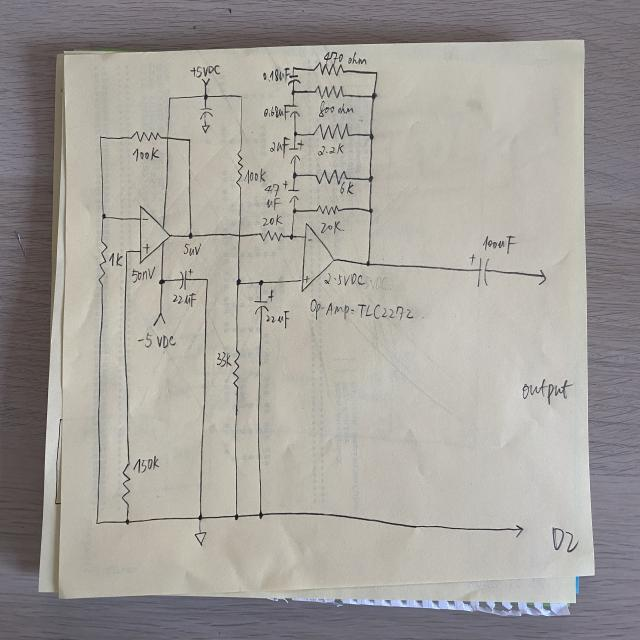capacitor: (468, 250, 490, 288), (252, 290, 274, 316), (287, 139, 304, 164), (282, 180, 300, 203), (177, 268, 191, 290), (286, 104, 300, 118), (198, 105, 213, 118), (287, 74, 301, 86)
crossover: (237, 232, 242, 239), (165, 134, 170, 140)
ground: (193, 530, 208, 548), (199, 122, 210, 134)
junction: (201, 92, 211, 101), (124, 516, 132, 527), (158, 276, 166, 286), (370, 91, 378, 101), (196, 512, 204, 522), (366, 130, 374, 140), (364, 259, 372, 268), (100, 212, 108, 221), (291, 170, 298, 180), (94, 517, 101, 527), (233, 512, 240, 522), (234, 278, 242, 286), (257, 511, 264, 520), (288, 232, 295, 241), (187, 231, 194, 240), (291, 130, 298, 138), (258, 278, 264, 287), (368, 206, 374, 215), (368, 174, 374, 183), (167, 94, 173, 102), (124, 248, 130, 256), (238, 93, 244, 101), (204, 276, 210, 283), (291, 207, 297, 214), (290, 88, 296, 95), (98, 133, 103, 141), (187, 136, 192, 144), (374, 70, 379, 77), (291, 64, 296, 70)
resistor: (313, 121, 350, 141), (313, 167, 349, 187), (120, 460, 132, 508), (96, 239, 108, 287), (313, 61, 346, 78), (314, 83, 346, 100), (231, 349, 242, 391), (131, 129, 161, 144), (259, 229, 284, 243), (236, 150, 244, 188), (316, 204, 339, 216)
terminal: (152, 311, 167, 328), (513, 522, 525, 540), (538, 269, 548, 285), (198, 76, 212, 86)
text: (308, 299, 417, 322), (521, 376, 573, 406), (480, 233, 516, 255), (136, 332, 176, 350), (323, 50, 367, 66), (318, 100, 355, 118), (261, 65, 292, 85), (132, 454, 160, 475), (324, 272, 365, 286), (315, 142, 346, 160), (268, 136, 290, 159), (262, 103, 290, 120), (264, 311, 290, 329), (131, 146, 159, 162), (130, 266, 156, 283), (190, 64, 221, 77), (244, 167, 267, 184), (171, 292, 197, 307), (319, 220, 343, 235), (107, 250, 124, 268), (182, 242, 202, 257), (216, 351, 232, 368), (265, 197, 284, 211), (262, 214, 282, 226), (264, 183, 282, 196), (339, 182, 354, 196), (142, 243, 151, 254), (303, 275, 310, 284), (307, 237, 313, 244), (141, 217, 149, 222)
